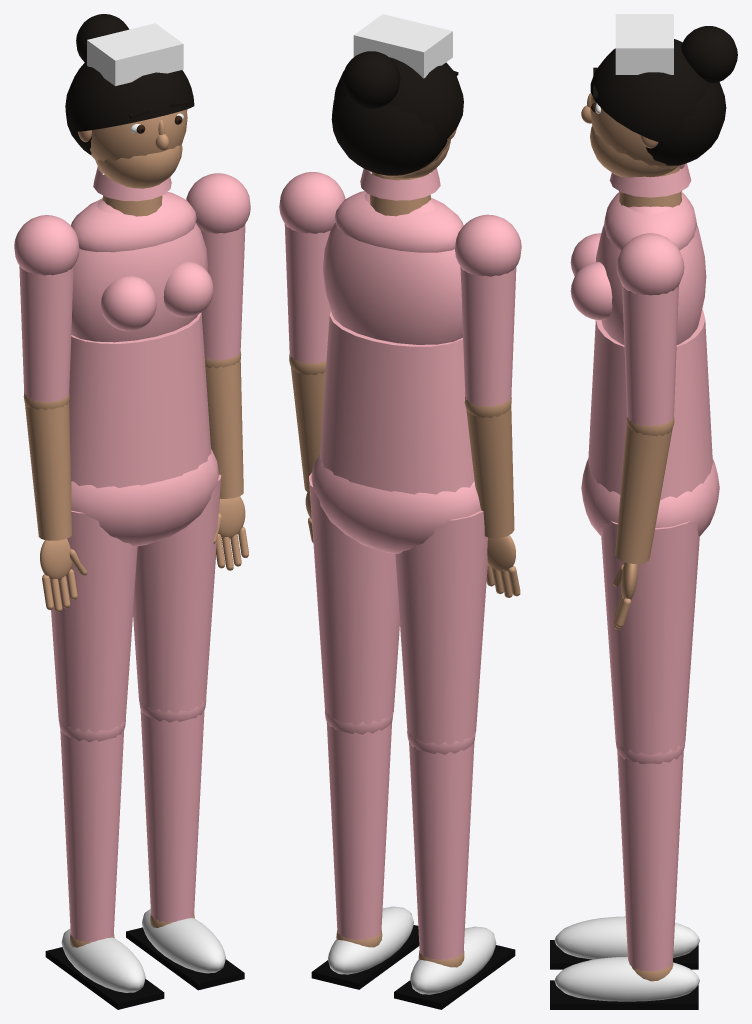
File: nurse.glb
3 views of the same model, side by side, from view 1: azimuth 30°, elevation 25°; view 2: azimuth 150°, elevation 25°; view 3: azimuth 270°, elevation 25° (orthographic). The views are drawn at different scales.
Parts seen in each view (by area): view 1: leg (×2), arm (×2), object 1, object 2, nurse, object 24, object 3, object 27, object 9, object 4, object 10, object 5 (+3 smaller); view 2: leg (×2), arm (×2), object 1, object 2, nurse, object 25, object 3, object 27, object 24, object 26, object 8, object 7; view 3: leg (×2), arm, object 1, object 24, object 2, nurse, object 27, object 3, object 25, object 26, object 5, object 9 (+4 smaller).
Boxes of the visible parts, x1=… form: leg (×2): x1=45, y1=474, x2=244, y2=1009; arm (×2): x1=14, y1=173, x2=250, y2=612; object 1: x1=69, y1=312, x2=211, y2=488; object 2: x1=71, y1=193, x2=208, y2=342; nurse: x1=71, y1=449, x2=218, y2=546; object 24: x1=67, y1=61, x2=194, y2=131; object 3: x1=71, y1=192, x2=196, y2=252; object 27: x1=87, y1=23, x2=183, y2=86; object 9: x1=90, y1=109, x2=187, y2=161; object 4: x1=101, y1=276, x2=156, y2=331; object 10: x1=95, y1=143, x2=182, y2=188; object 5: x1=163, y1=261, x2=213, y2=317; leg (×2): x1=309, y1=473, x2=515, y2=1009; arm (×2): x1=279, y1=172, x2=521, y2=597; object 1: x1=319, y1=311, x2=474, y2=494; object 2: x1=322, y1=192, x2=462, y2=344; nurse: x1=311, y1=454, x2=481, y2=553; object 25: x1=331, y1=95, x2=447, y2=175; object 3: x1=334, y1=191, x2=463, y2=252; object 27: x1=353, y1=14, x2=452, y2=78; object 24: x1=334, y1=57, x2=463, y2=143; object 26: x1=342, y1=51, x2=400, y2=108; object 8: x1=360, y1=168, x2=440, y2=200; object 7: x1=370, y1=172, x2=430, y2=216; leg (×2): x1=550, y1=521, x2=699, y2=1009; arm: x1=613, y1=233, x2=684, y2=629; object 1: x1=588, y1=309, x2=712, y2=500; object 24: x1=590, y1=39, x2=710, y2=145; object 2: x1=596, y1=206, x2=706, y2=344; nurse: x1=581, y1=458, x2=719, y2=536; object 27: x1=615, y1=14, x2=673, y2=74; object 3: x1=604, y1=192, x2=696, y2=250; object 25: x1=646, y1=82, x2=726, y2=165; object 26: x1=681, y1=26, x2=737, y2=83; object 5: x1=570, y1=262, x2=612, y2=320; object 9: x1=590, y1=94, x2=680, y2=168.
Size of the model in its own units: 0.8255 by 3.2 by 0.5713.
